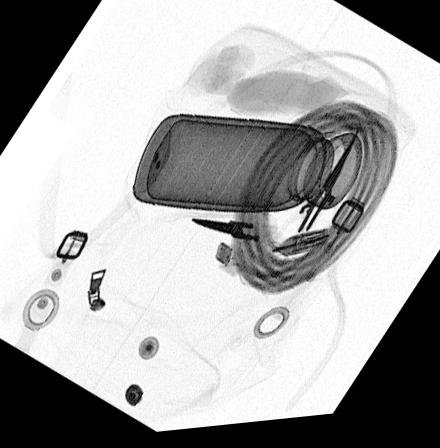Scissors: (277, 133, 357, 265), (192, 206, 295, 263)
